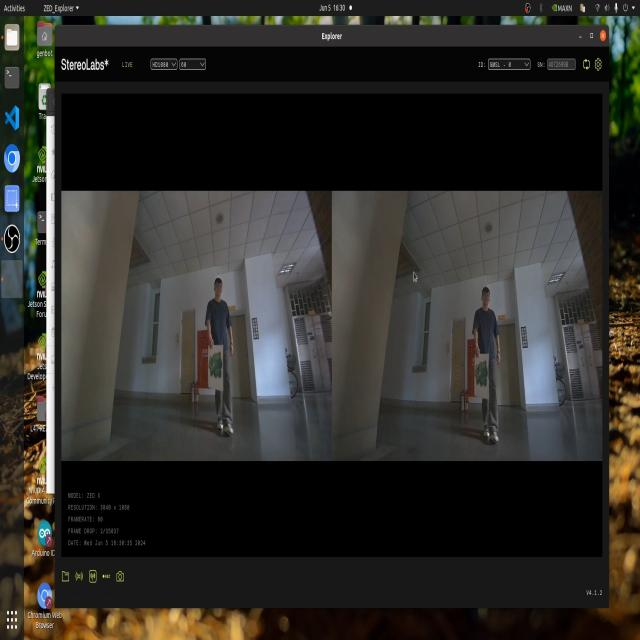green: (203, 342, 226, 380), (474, 350, 491, 388)
